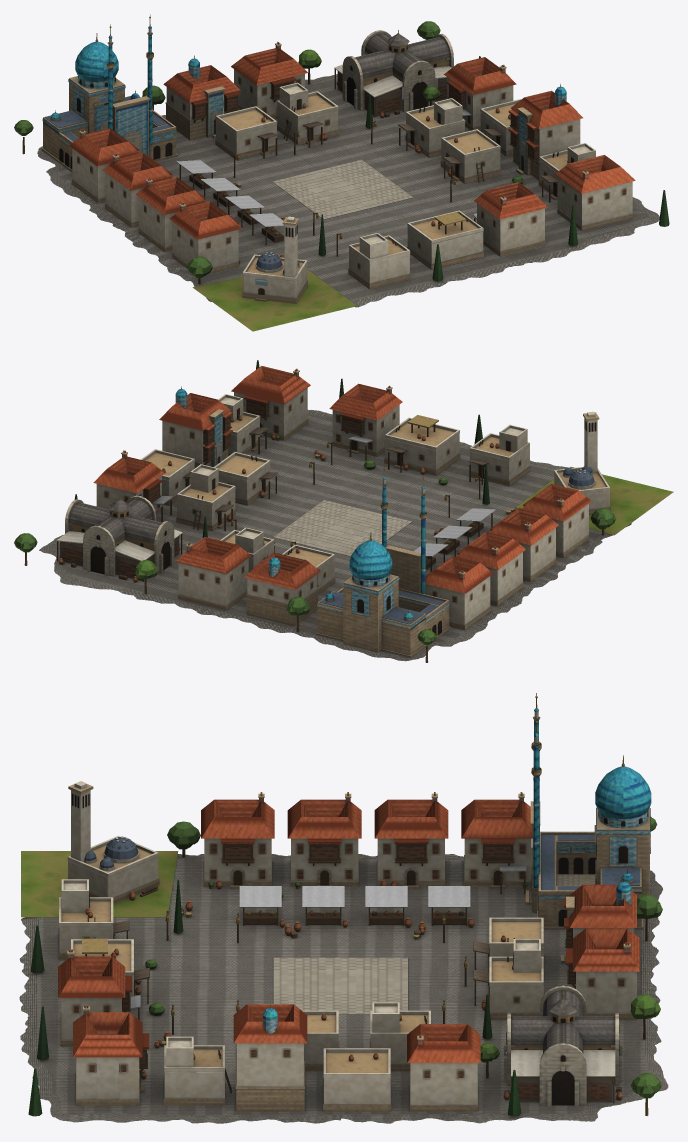
The model's file is gunpowder-town-medium-b-levant.glb.
3 views of the same model, one above another, from view 1: azimuth 30°, elevation 25°; view 2: azimuth 150°, elevation 25°; view 3: azimuth 270°, elevation 25° (orthographic). The views are drawn at different scales.
Visible parts, largest first — view 1: LOD0; view 2: LOD0; view 3: LOD0.
Part boxes in pixels (x1,y1,x2,y2): LOD0: [14, 14, 669, 331]; LOD0: [14, 360, 673, 662]; LOD0: [19, 693, 668, 1123].
Size of what is drawn, in the model's own units: 6.03 by 2 by 6.09.
Materials: 3 (3 with a texture image).
